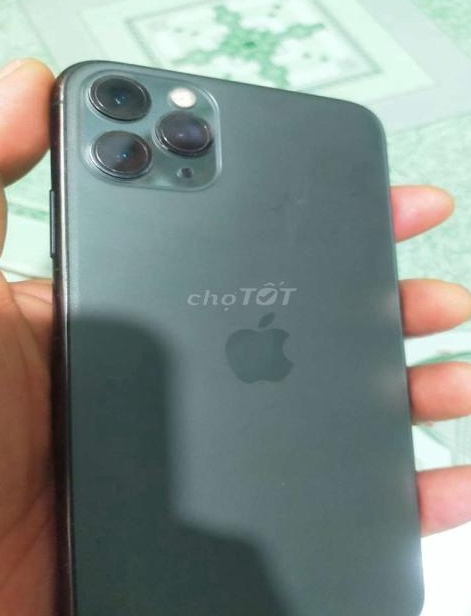scratch: (27, 253, 81, 322), (166, 142, 214, 164), (47, 75, 82, 104), (272, 473, 298, 502), (197, 115, 220, 135), (88, 125, 103, 150)
